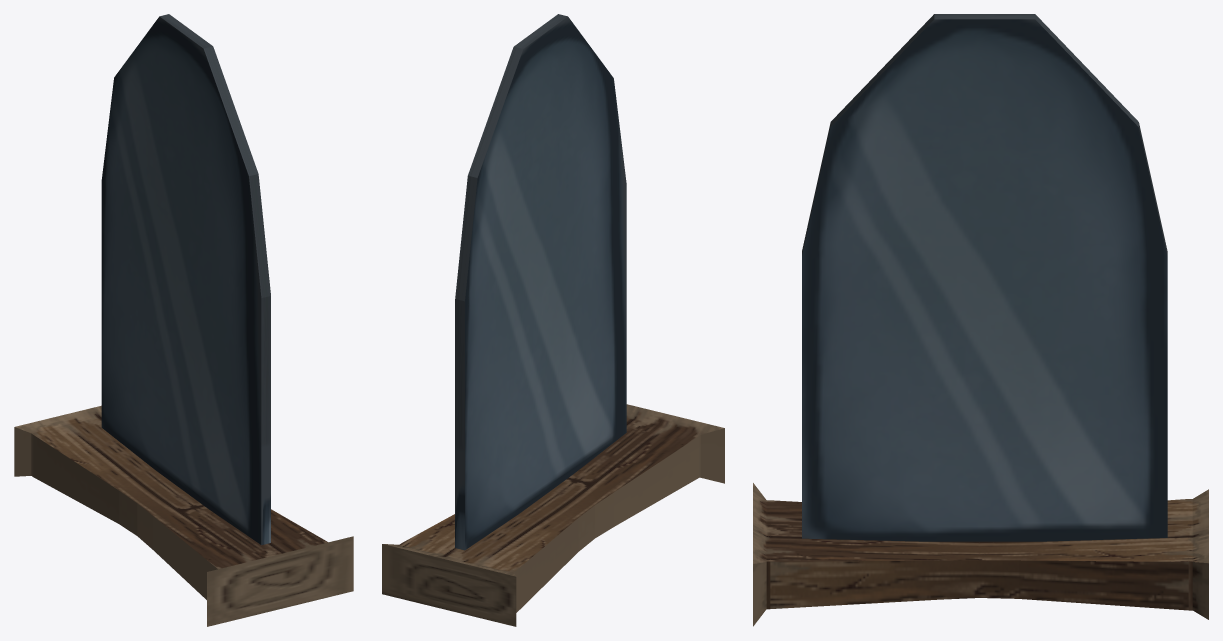
Rendered from prop_town_window.glb.
3 renders of one model, left to right at view 1: azimuth 30°, elevation 25°; view 2: azimuth 150°, elevation 25°; view 3: azimuth 270°, elevation 25°, orthographic. The views are drawn at different scales.
Visible parts, largest first — view 1: obj_window_pane, obj_window; view 2: obj_window_pane, obj_window; view 3: obj_window_pane, obj_window.
Part boxes in pixels (x1=…): obj_window_pane: x1=101, y1=14, x2=270, y2=545; obj_window: x1=14, y1=405, x2=353, y2=626; obj_window_pane: x1=455, y1=14, x2=626, y2=550; obj_window: x1=382, y1=404, x2=724, y2=626; obj_window_pane: x1=802, y1=14, x2=1167, y2=541; obj_window: x1=753, y1=483, x2=1208, y2=626.
Size of the model in its own units: 1.3 by 4.25 by 3.06.
2 materials, 2 textured.
